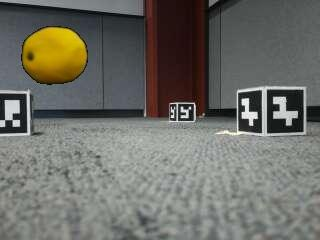lemon: (22, 27, 87, 84)
